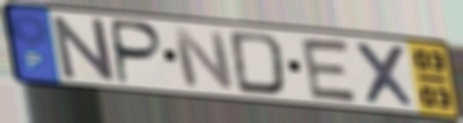D: (227, 29, 289, 99)
E: (298, 36, 362, 105)
N: (50, 15, 119, 83), (168, 26, 238, 93)
P: (111, 17, 167, 87)
X: (351, 39, 420, 109)
